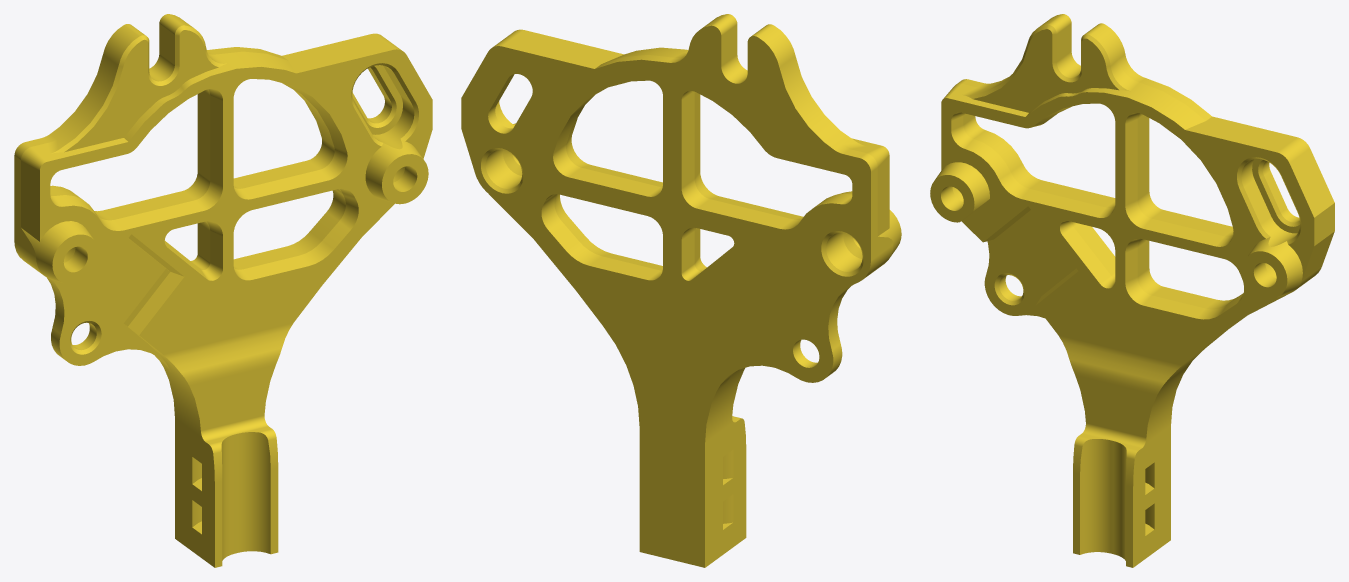
File: A4T - THB Mount - WWBMG - SHT36v3.gltf
The picture shows the model from 3 angles, left to right: view 1: azimuth 30°, elevation 25°; view 2: azimuth 150°, elevation 25°; view 3: azimuth 330°, elevation 25°; orthographic projection. The views are drawn at different scales.
Parts seen in each view (by area): view 1: A4T - THB Mount - WWBMG - SHT36v3; view 2: A4T - THB Mount - WWBMG - SHT36v3; view 3: A4T - THB Mount - WWBMG - SHT36v3.
Part boxes in pixels (x1,y1,x2,y2): A4T - THB Mount - WWBMG - SHT36v3: (14, 14, 432, 567); A4T - THB Mount - WWBMG - SHT36v3: (461, 14, 901, 567); A4T - THB Mount - WWBMG - SHT36v3: (930, 14, 1334, 567).
Size of the model in its own units: 0.0528 by 0.067 by 0.0092.
